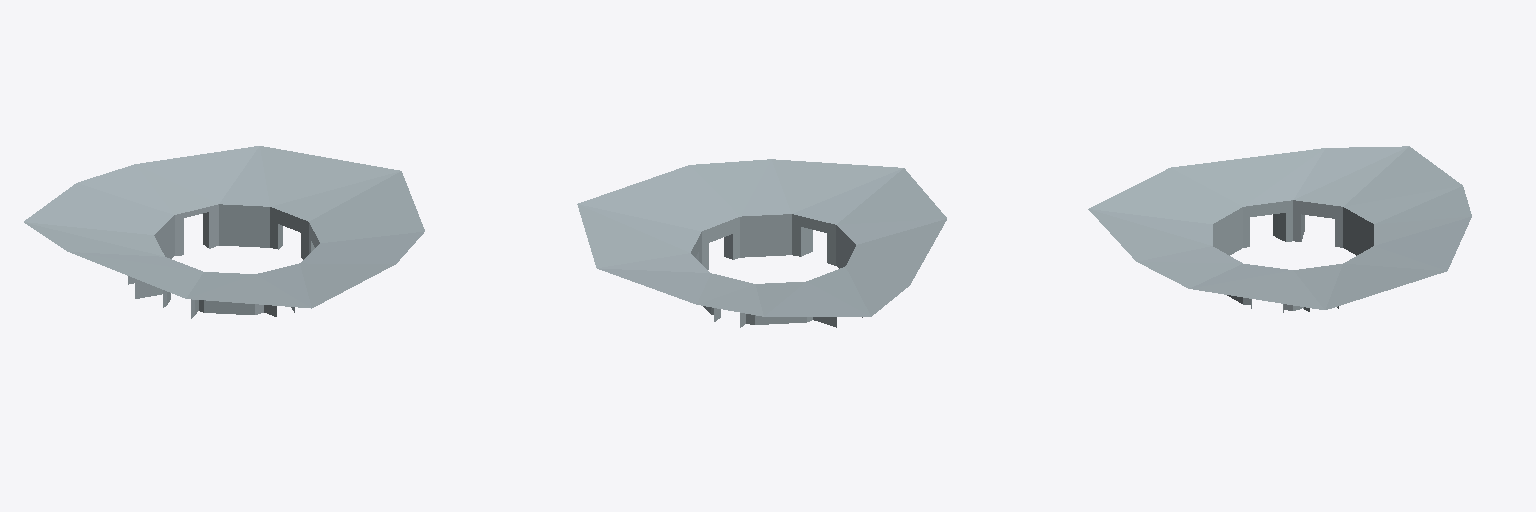
File: Stadium.obj
The picture shows the model from 3 angles: view 1: azimuth 30°, elevation 25°; view 2: azimuth 150°, elevation 25°; view 3: azimuth 270°, elevation 25°; orthographic projection.
Parts seen in each view (by area): view 1: Stadium; view 2: Stadium; view 3: Stadium.
Part boxes in pixels (x1,y1,x2,y2): Stadium: (24,146,424,318); Stadium: (577,159,946,327); Stadium: (1088,146,1471,312).
Bounding box in the file's own units: 76.01 × 11.9 × 75.2.